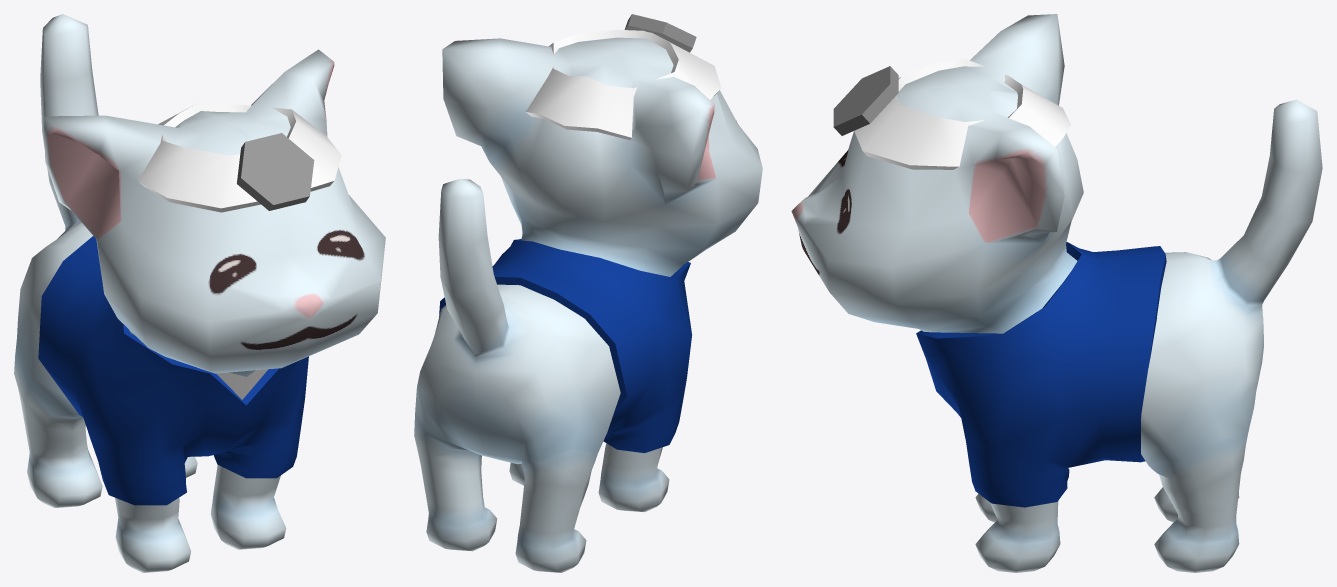
Rendered from Dentist Cat05.fbx.
3 renders of one model, left to right at view 1: azimuth 30°, elevation 25°; view 2: azimuth 150°, elevation 25°; view 3: azimuth 270°, elevation 25°, orthographic. The views are drawn at different scales.
Parts seen in each view (by area): view 1: Cat_Base004, Dentist_Cat_Scrubs, Dentist_Cat_Headband; view 2: Cat_Base004, Dentist_Cat_Scrubs, Dentist_Cat_Headband; view 3: Cat_Base004, Dentist_Cat_Scrubs, Dentist_Cat_Headband.
Part boxes in pixels (<box>): Cat_Base004: <box>14,14,385,572</box>; Dentist_Cat_Scrubs: <box>38,236,308,505</box>; Dentist_Cat_Headband: <box>138,103,341,212</box>; Cat_Base004: <box>414,37,762,572</box>; Dentist_Cat_Scrubs: <box>439,239,691,453</box>; Dentist_Cat_Headband: <box>525,14,721,140</box>; Cat_Base004: <box>791,14,1322,572</box>; Dentist_Cat_Scrubs: <box>916,242,1166,507</box>; Dentist_Cat_Headband: <box>833,58,1070,169</box>.
Size of the model in its own units: 1.75 by 2.83 by 2.72.
Materials: 4 (1 with a texture image).
